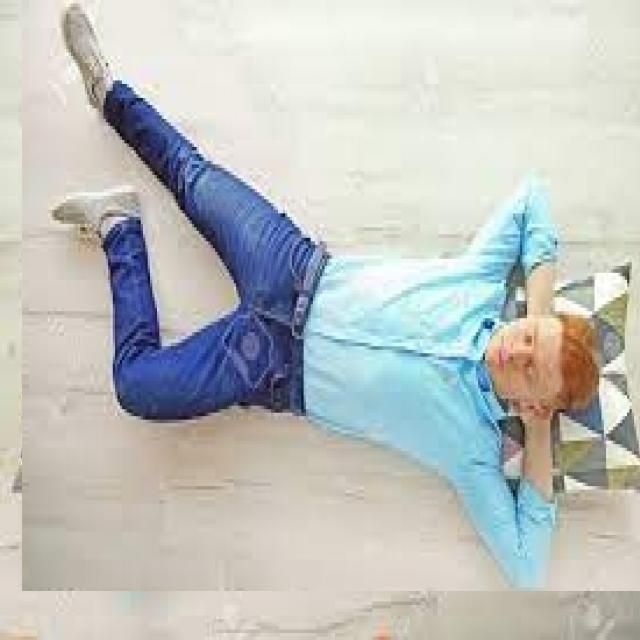Fall: (31, 12, 640, 615)
